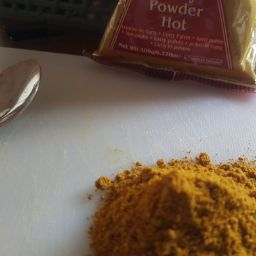Curry powder: (73, 156, 250, 256), (100, 145, 256, 256), (134, 170, 229, 237)
